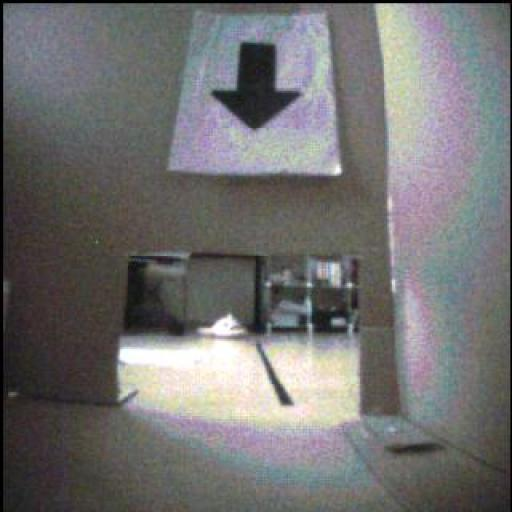arrow: (214, 44, 302, 131)
